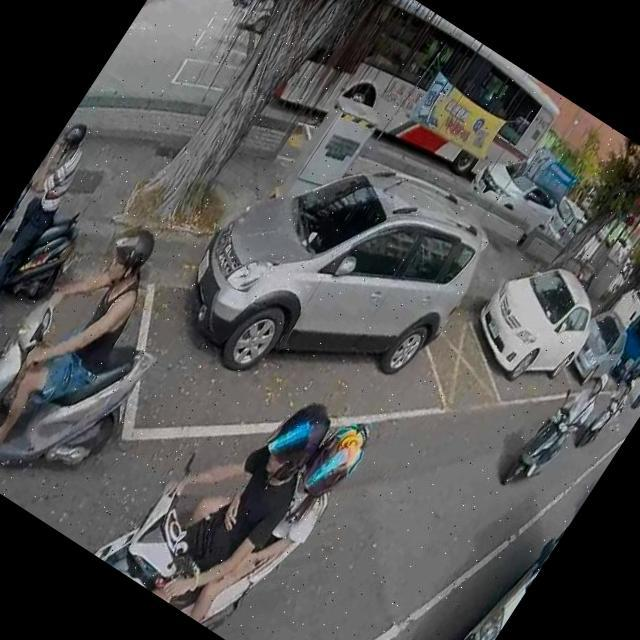person: (111, 353, 352, 632), (151, 369, 378, 640), (0, 196, 185, 487), (0, 121, 107, 337), (514, 358, 616, 488), (594, 372, 640, 428)
